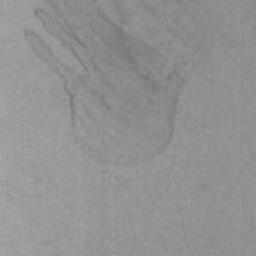Water spot: (22, 0, 223, 170)
